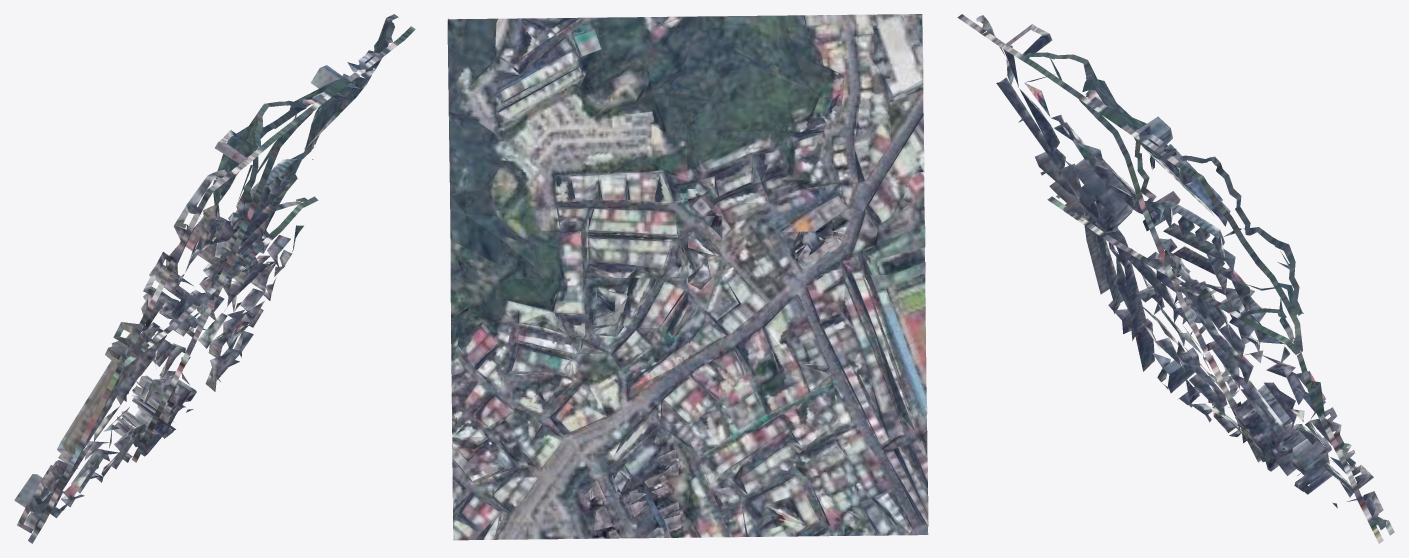
3 views of the same model, side by side, from view 1: azimuth 30°, elevation 25°; view 2: azimuth 150°, elevation 25°; view 3: azimuth 270°, elevation 25° (orthographic). The views are drawn at different scales.
Bounding box in the file's own units: 618 × 575 × 532.
1 material, 1 textured.
